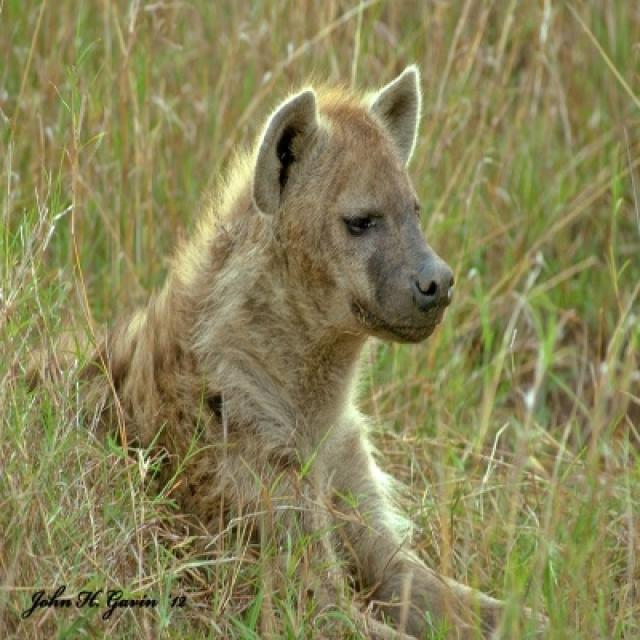hyena: (98, 64, 475, 638)
